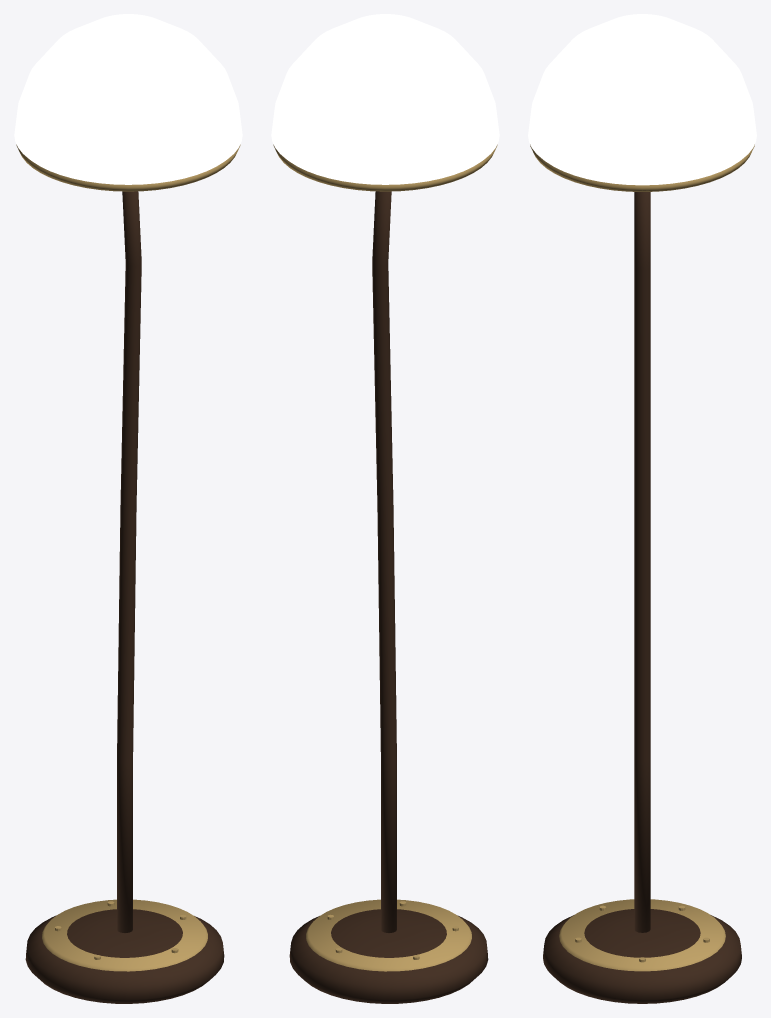
The model's file is lamp_floor_warm.fbx.
3 renders of one model, left to right at view 1: azimuth 30°, elevation 25°; view 2: azimuth 150°, elevation 25°; view 3: azimuth 270°, elevation 25°, orthographic.
Visible parts, largest first — view 1: lamp_floor_warm; view 2: lamp_floor_warm; view 3: lamp_floor_warm.
Part boxes in pixels (bbox=[...]): lamp_floor_warm: bbox=[14, 14, 242, 1003]; lamp_floor_warm: bbox=[271, 14, 499, 1003]; lamp_floor_warm: bbox=[528, 14, 756, 1003].
Bounding box in the file's own units: 0.34 × 1.55 × 0.34.
